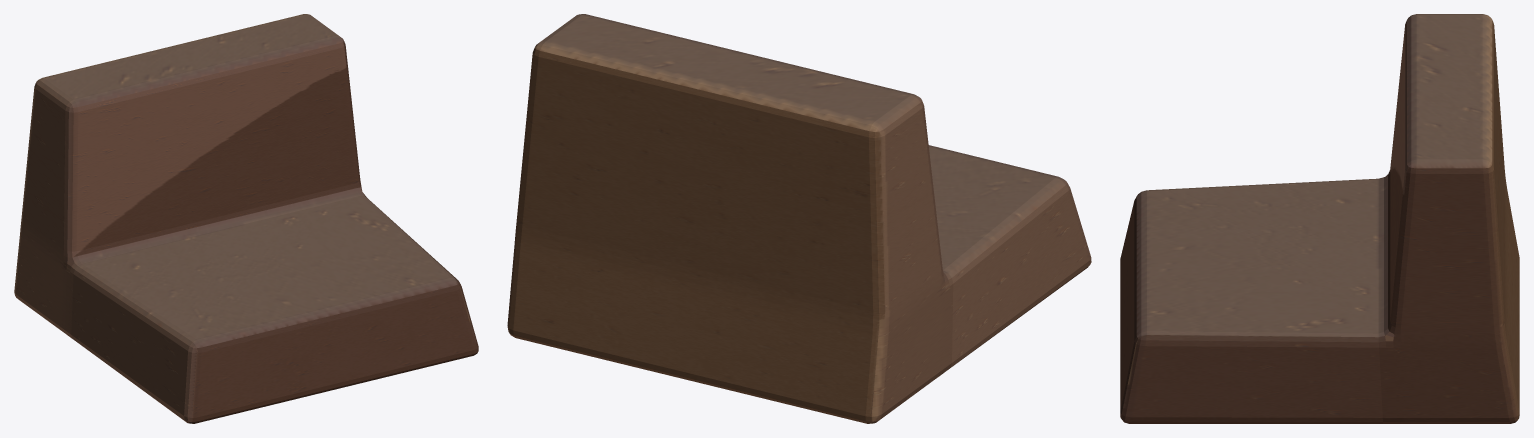
File: SandSofa.glb
The picture shows the model from 3 angles, left to right: view 1: azimuth 30°, elevation 25°; view 2: azimuth 150°, elevation 25°; view 3: azimuth 270°, elevation 25°; orthographic projection. The views are drawn at different scales.
Visible parts, largest first — view 1: SOFA五条纹.002; view 2: SOFA五条纹.002; view 3: SOFA五条纹.002.
Part boxes in pixels (x1,y1,x2,y2): SOFA五条纹.002: [14, 14, 478, 423]; SOFA五条纹.002: [507, 14, 1091, 423]; SOFA五条纹.002: [1120, 14, 1519, 423].
Size of what is drawn, in the model's own units: 2.03 by 1.5 by 2.1.
1 material, 1 textured.
